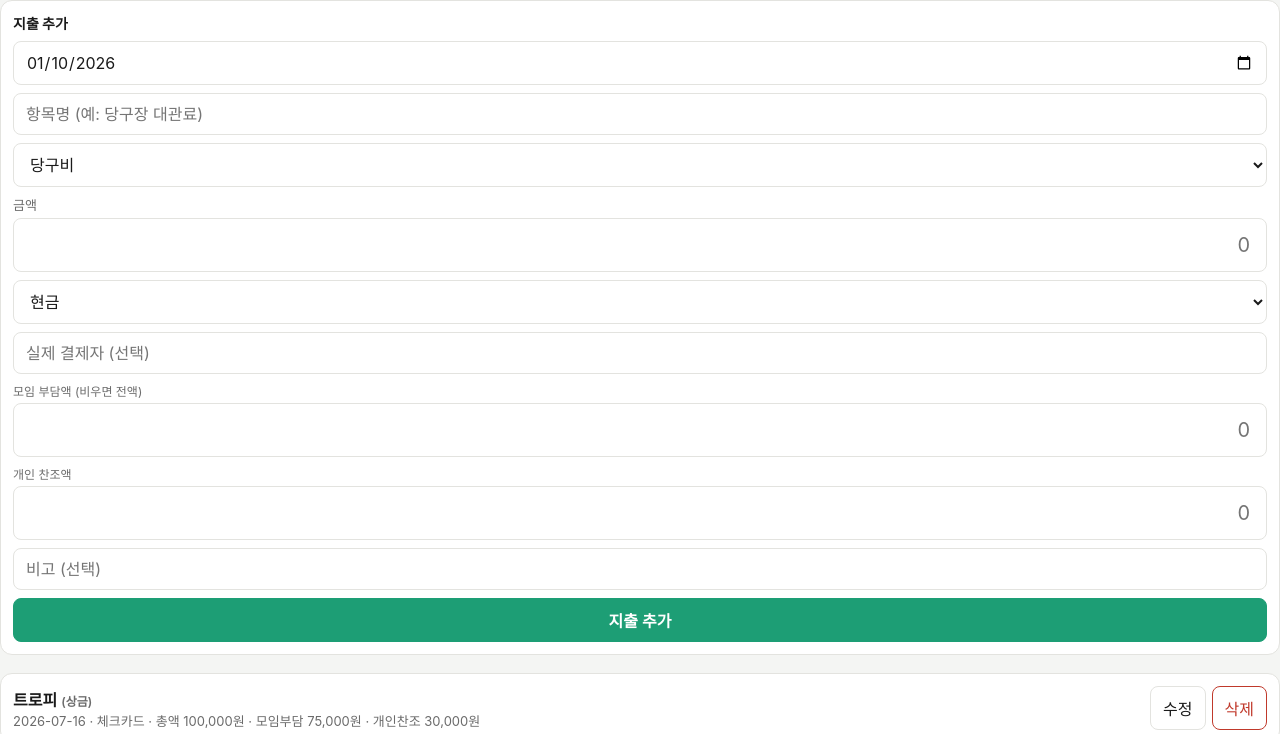
Test: [재현 및 수정 확인] 기타 지출 — 전체 금액 입력·모임 부담액 비워둠·저장 › 모임부담액을 직접 지정해뒀던 지출은 수정 화면을 열어도 그 값이 그대로 보인다(전액 자동계산으로 덮어쓰지 않음)
Click the button "수정" at (1178, 708), box [1150,686,1206,730]
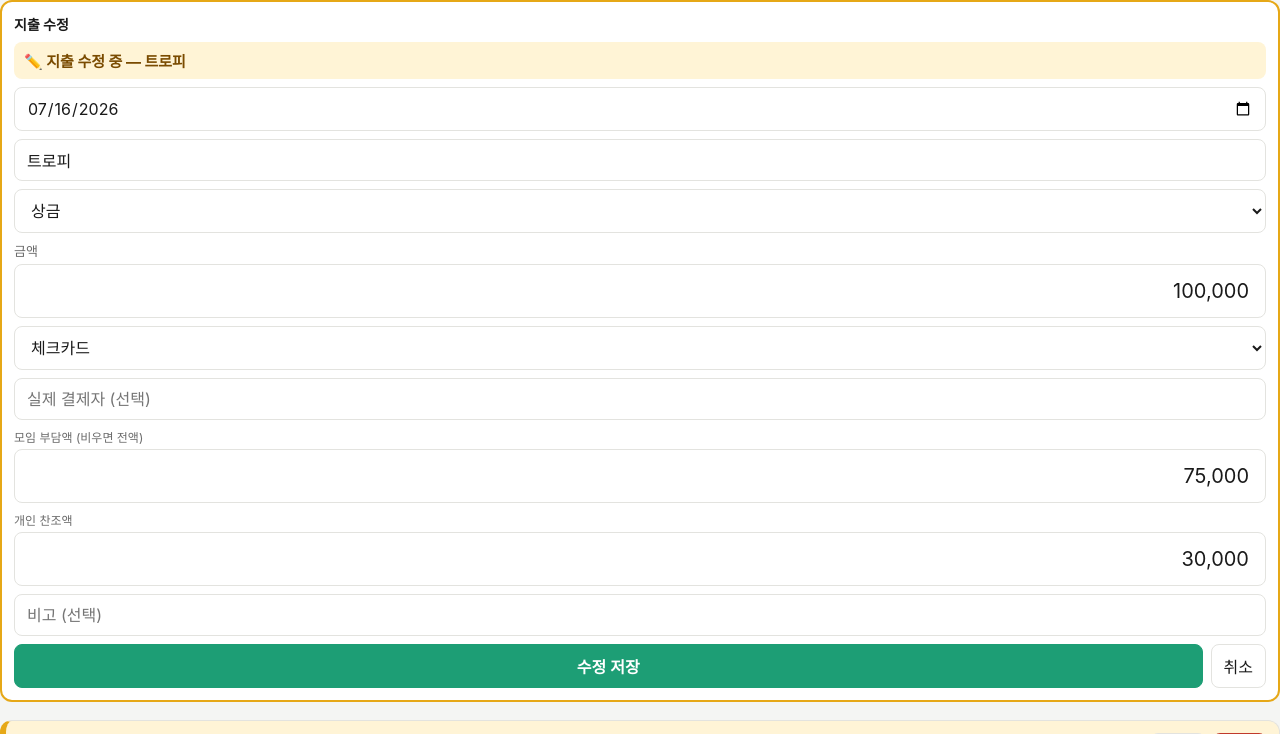
Now the field named "모임 부담액" holds "75,000", box [14,449,1266,503]
